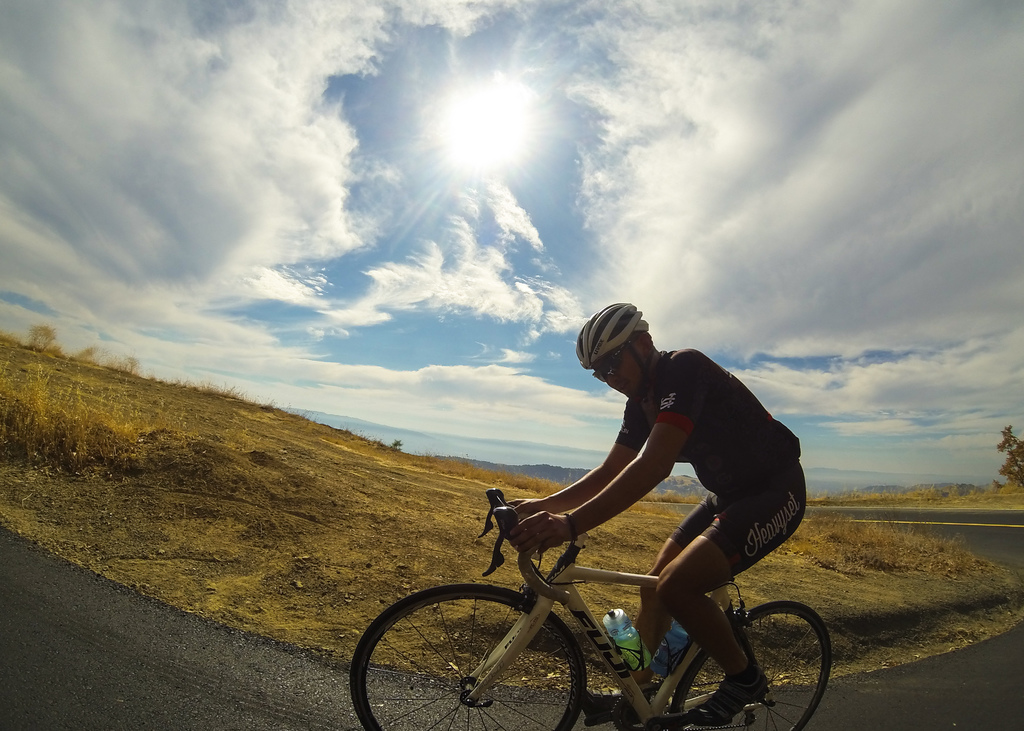Bike: (297, 501, 763, 731)
